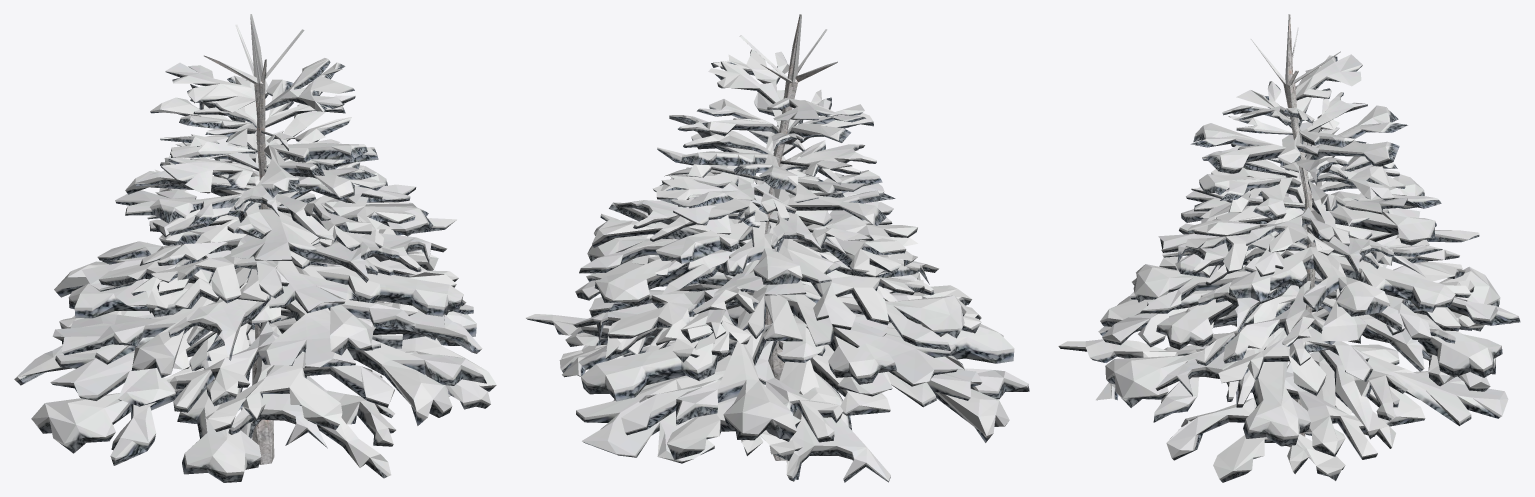
The model's file is sh-scopia-blue-pine-snow.glb.
3 views of the same model, side by side, from view 1: azimuth 30°, elevation 25°; view 2: azimuth 150°, elevation 25°; view 3: azimuth 270°, elevation 25° (orthographic). The views are drawn at different scales.
Visible parts, largest first — view 1: Snow.001, Trunk; view 2: Snow.001, Trunk; view 3: Snow.001, Trunk.
Part boxes in pixels (x1=…): Snow.001: x1=14, y1=58, x2=496, y2=482; Trunk: x1=204, y1=14, x2=304, y2=464; Snow.001: x1=526, y1=49, x2=1029, y2=482; Trunk: x1=739, y1=14, x2=837, y2=460; Snow.001: x1=1058, y1=54, x2=1520, y2=482; Trunk: x1=1251, y1=14, x2=1340, y2=447.
Bounding box in the file's own units: 0.9931 × 0.9999 × 0.9916.
Materials: 2 (2 with a texture image).
